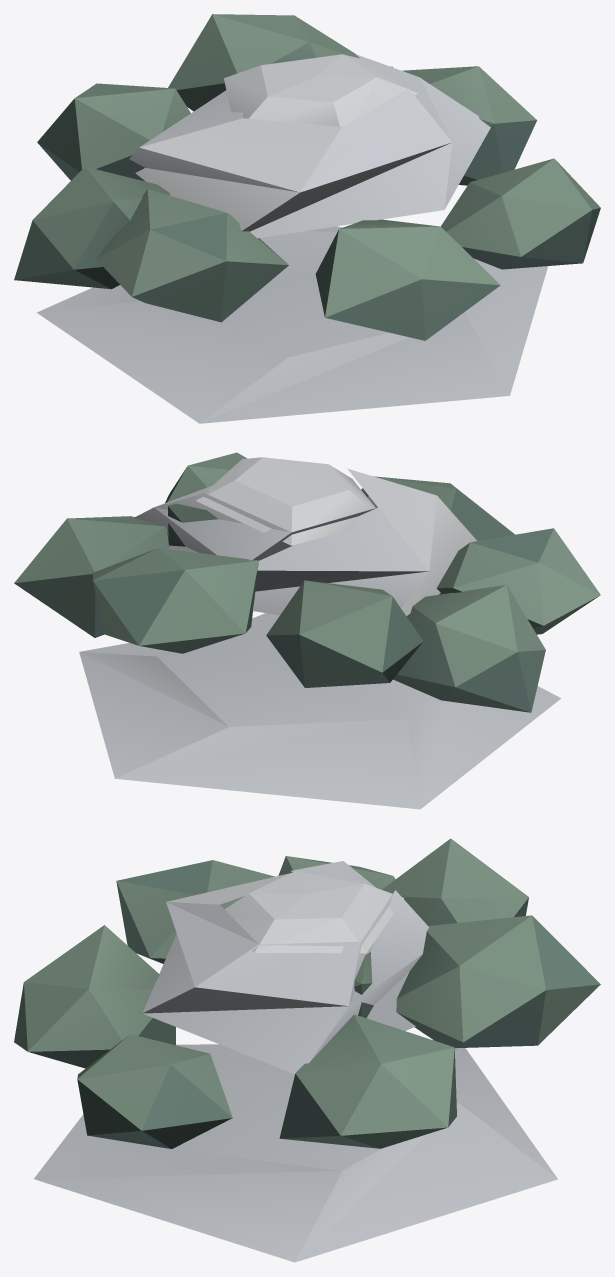
The model's file is dwarf.lod2.glb.
The picture shows the model from 3 angles, top to bottom: view 1: azimuth 30°, elevation 25°; view 2: azimuth 150°, elevation 25°; view 3: azimuth 270°, elevation 25°; orthographic projection. The views are drawn at different scales.
Size of the model in its own units: 2.55 by 1.14 by 2.42.
